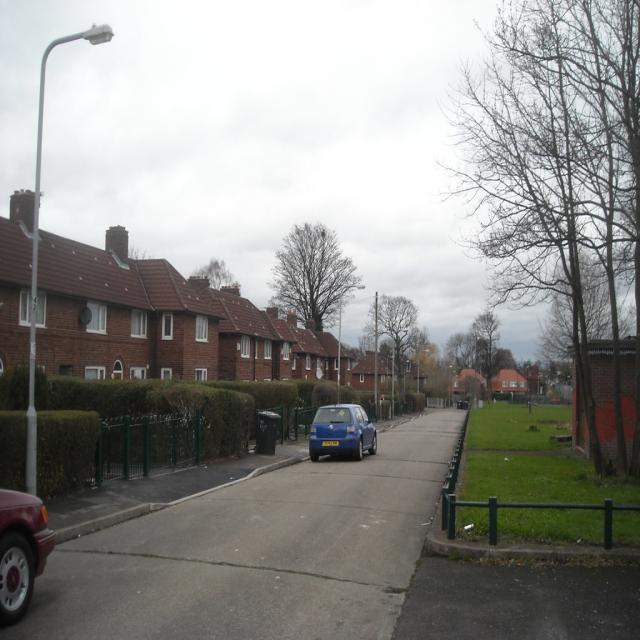car: (303, 397, 374, 465)
